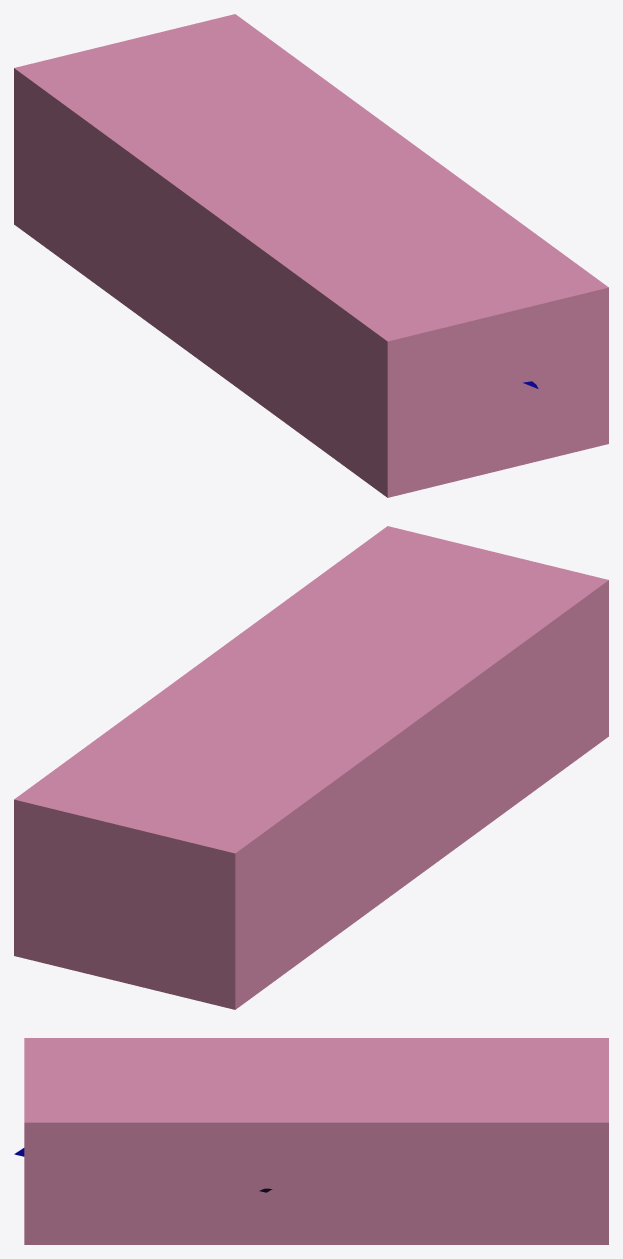
The model's file is tree_oak_dead_b.dae.
The picture shows the model from 3 angles, top to bottom: view 1: azimuth 30°, elevation 25°; view 2: azimuth 150°, elevation 25°; view 3: azimuth 270°, elevation 25°; orthographic projection. The views are drawn at different scales.
Visible parts, largest first — view 1: Untitled; view 2: Untitled; view 3: Untitled.
Boxes of the visible parts, bbox=[...] form: Untitled: bbox=[14, 14, 608, 497]; Untitled: bbox=[14, 526, 608, 1009]; Untitled: bbox=[24, 1038, 608, 1244].
Size of the model in its own units: 2.58 by 7.56 by 1.72.
